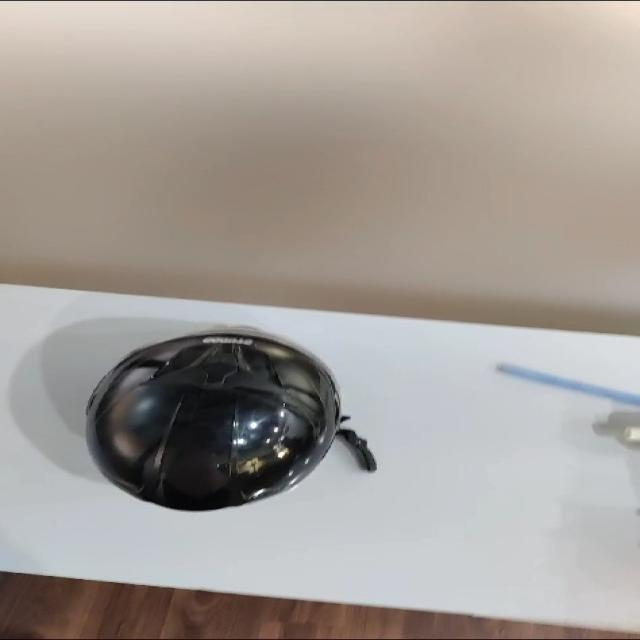helmet: (74, 323, 322, 521)
